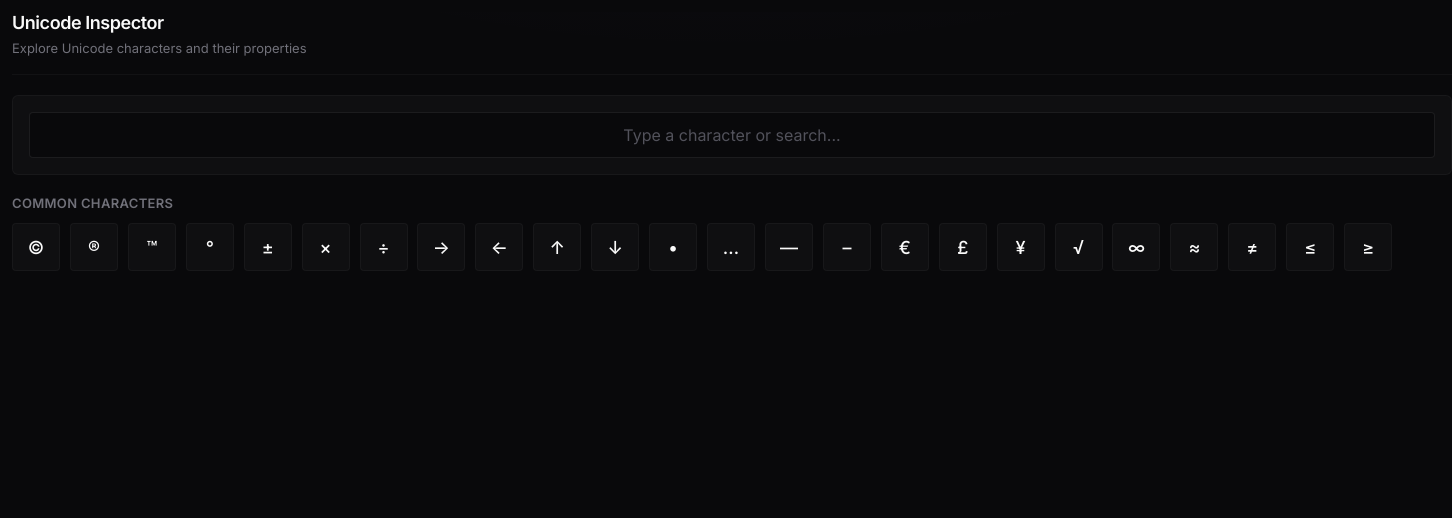
Scenario: UnicodeTool › should search for characters
Type "copyright" into the field with class "search-input" at (732, 135), box [29, 112, 1435, 158]
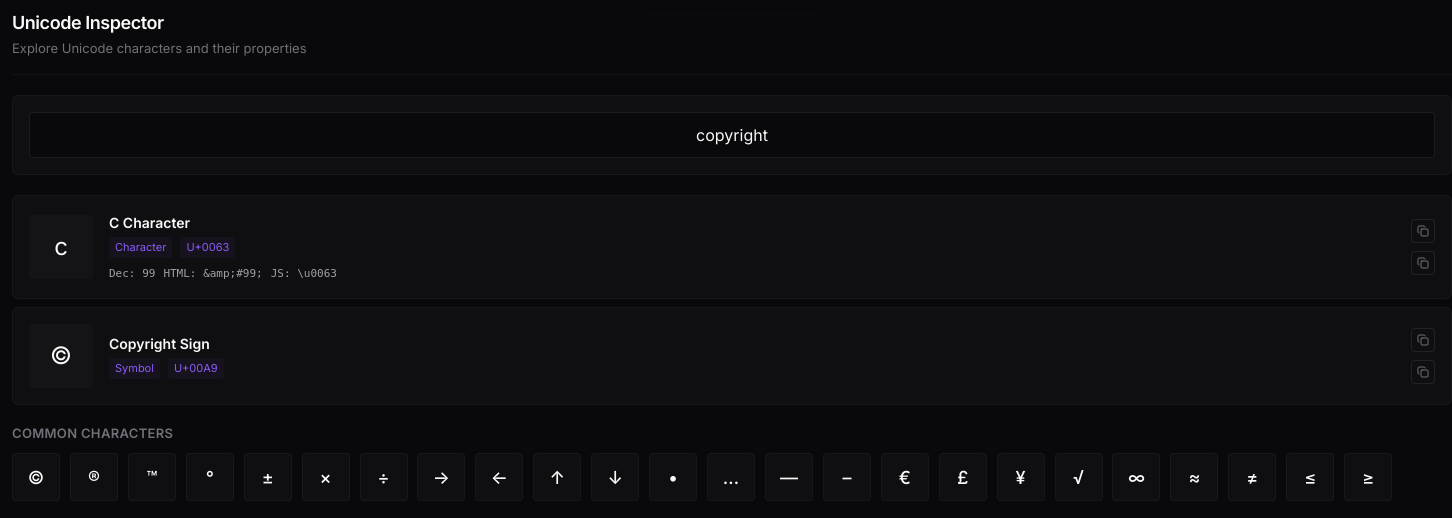
expect the element with class "results" is shown: met, box [12, 195, 1451, 405]
